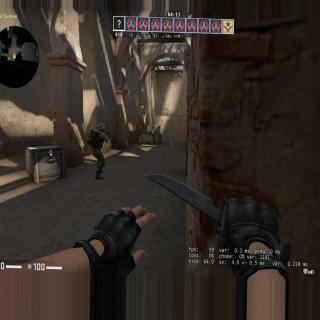CT-Body: (92, 116, 108, 180)
CT-Head: (97, 122, 105, 132)
